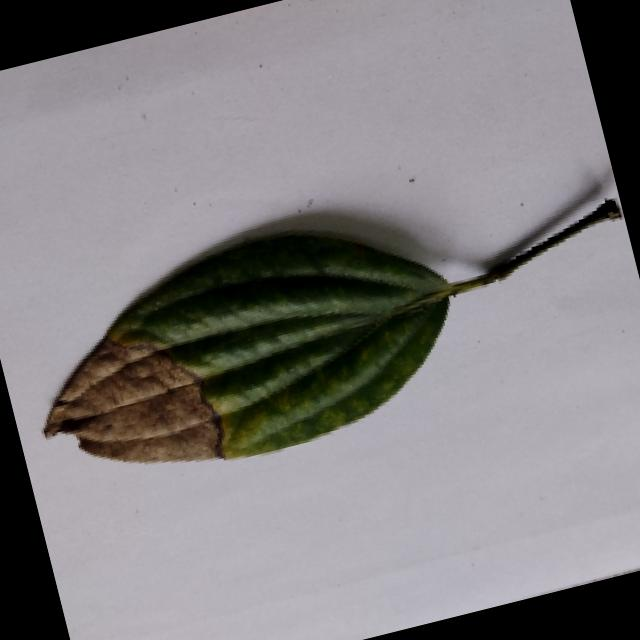footrot: (21, 198, 478, 503)
